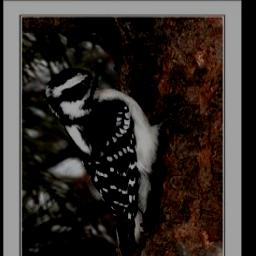Woodpecker: (45, 67, 183, 256)
